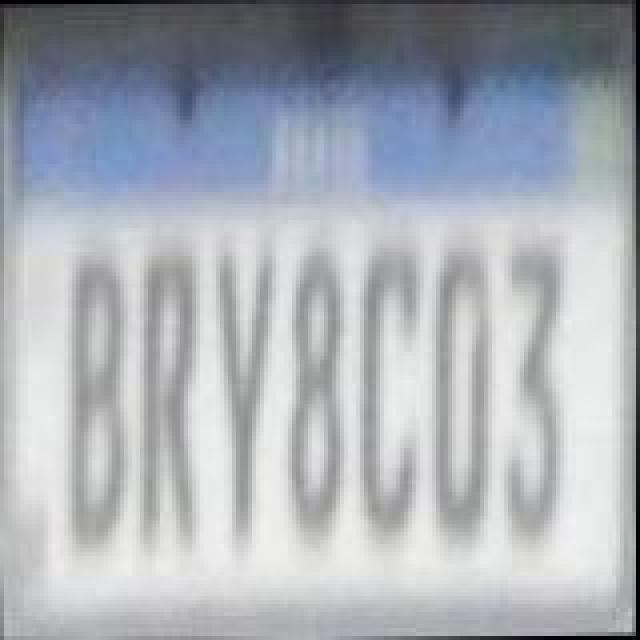3: (500, 238, 572, 554)
8: (280, 238, 352, 546)
B: (60, 252, 132, 556)
C: (354, 232, 430, 548)
D: (430, 240, 498, 548)
R: (132, 240, 204, 556)
Y: (210, 246, 286, 550)
